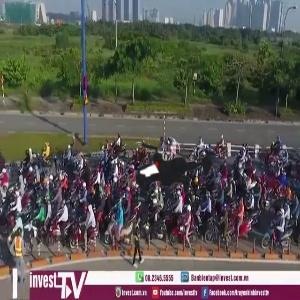drone: (110, 98, 240, 228)
